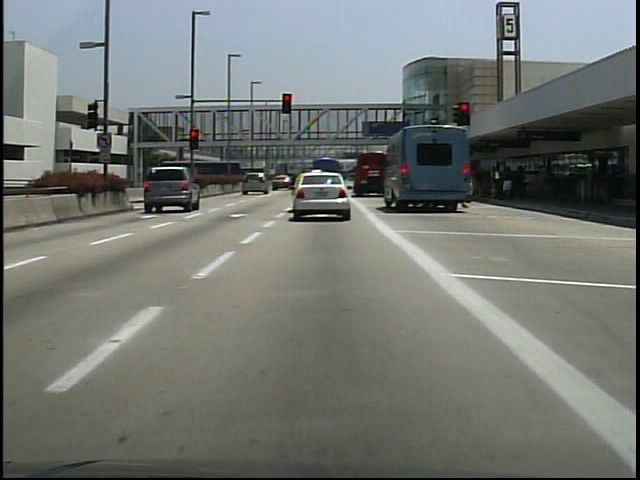person: (499, 164, 514, 203)
